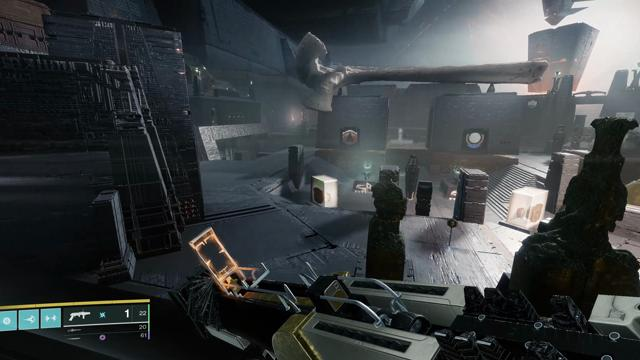commune: (528, 100, 537, 108)
pyramid: (342, 129, 358, 146)
traveler: (465, 132, 484, 148)
